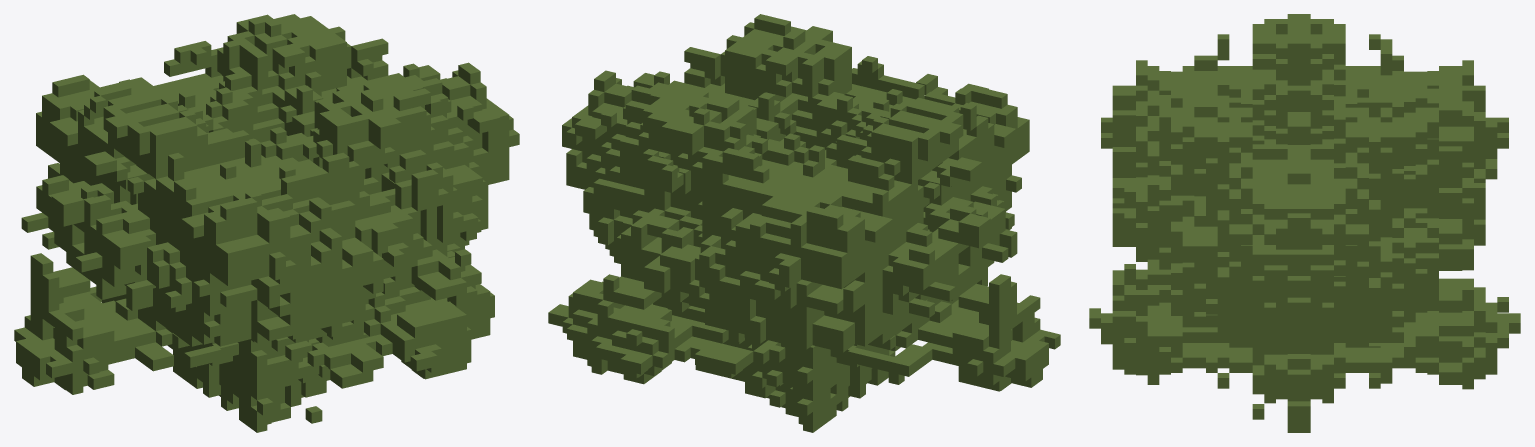
The model's file is good-12.obj.
The picture shows the model from 3 angles, left to right: view 1: azimuth 30°, elevation 25°; view 2: azimuth 150°, elevation 25°; view 3: azimuth 270°, elevation 25°; orthographic projection. The views are drawn at different scales.
Size of the model in its own units: 4.5 by 3.1 by 3.7.
Materials: 1 (1 with a texture image).
